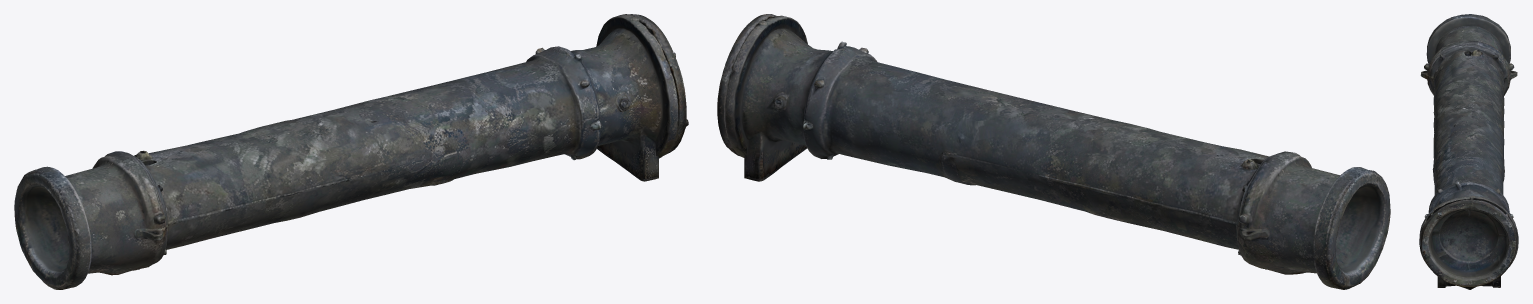
Rendered from penstock.glb.
The picture shows the model from 3 angles, left to right: view 1: azimuth 30°, elevation 25°; view 2: azimuth 150°, elevation 25°; view 3: azimuth 270°, elevation 25°; orthographic projection. The views are drawn at different scales.
Size of the model in its own units: 0.9793 by 0.2149 by 0.2098.
Materials: 1 (1 with a texture image).
